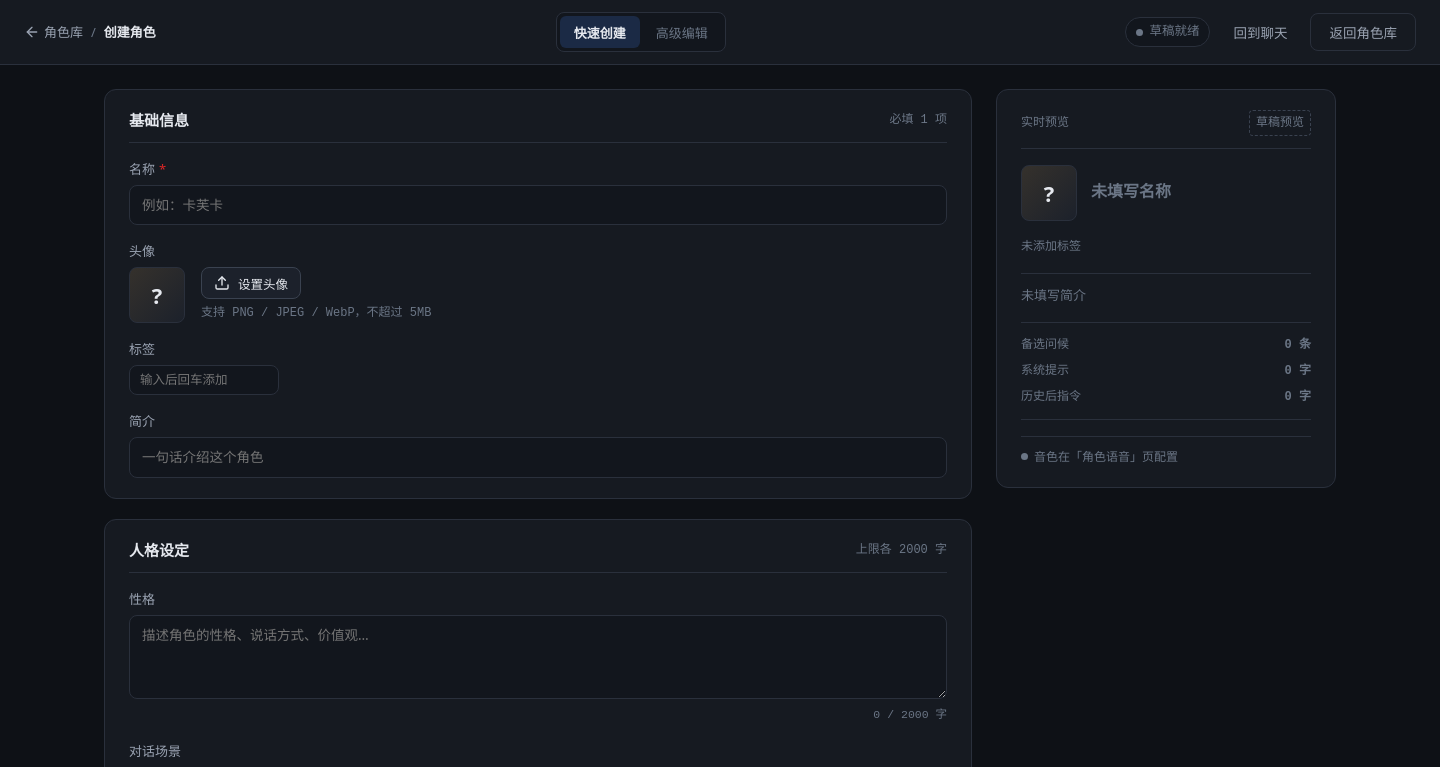
Scenario: CharacterCreatePage › 标签 › 输入标签按回车添加，并在表单与预览区同步展示
The image size is (1440, 767).
Step 1. Type "星核猎手" into the field named "添加标签" → coordinates (204, 380), box [129,365,279,395]
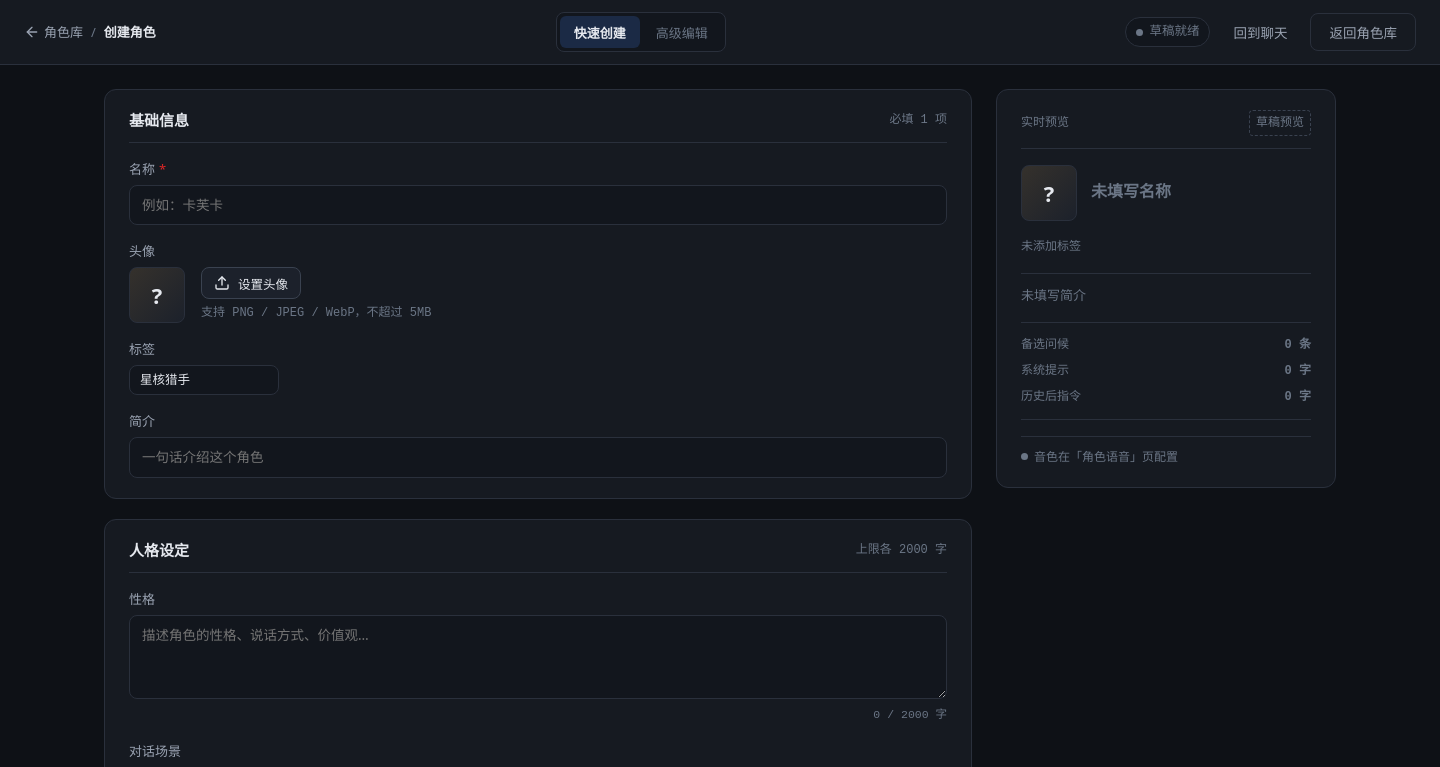
Step 2. Press Enter in the field named "添加标签", box [129,365,279,395]
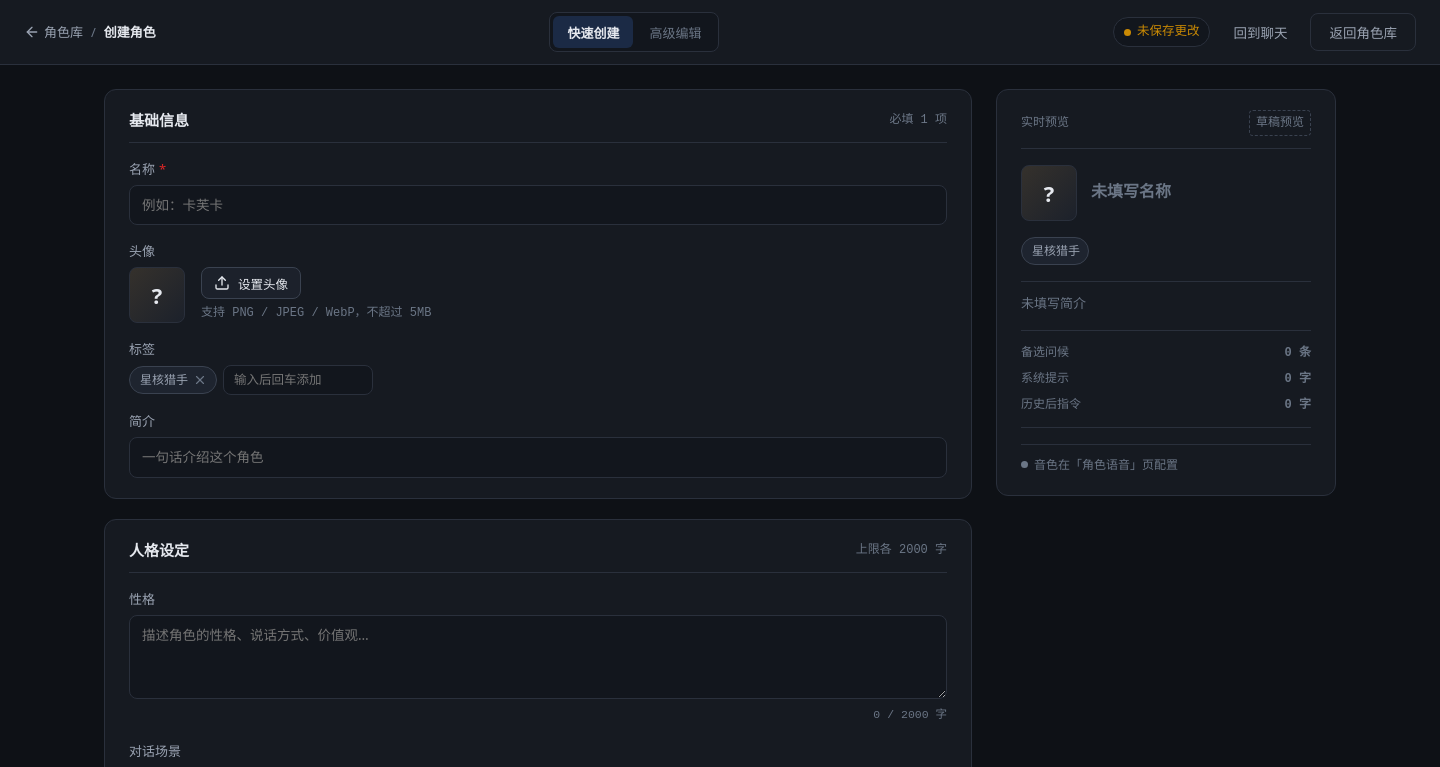
Check: the text "星核猎手" below "标签" is shown, box [140,371,188,388]
Check: the element with test id "preview-tags" reads "星核猎手", box [1032,242,1080,259]
Check: the field named "添加标签" is empty
Note:  添加第二个标签
Step 3. Type "冷静" into the field named "添加标签" → coordinates (298, 380), box [223,365,373,395]
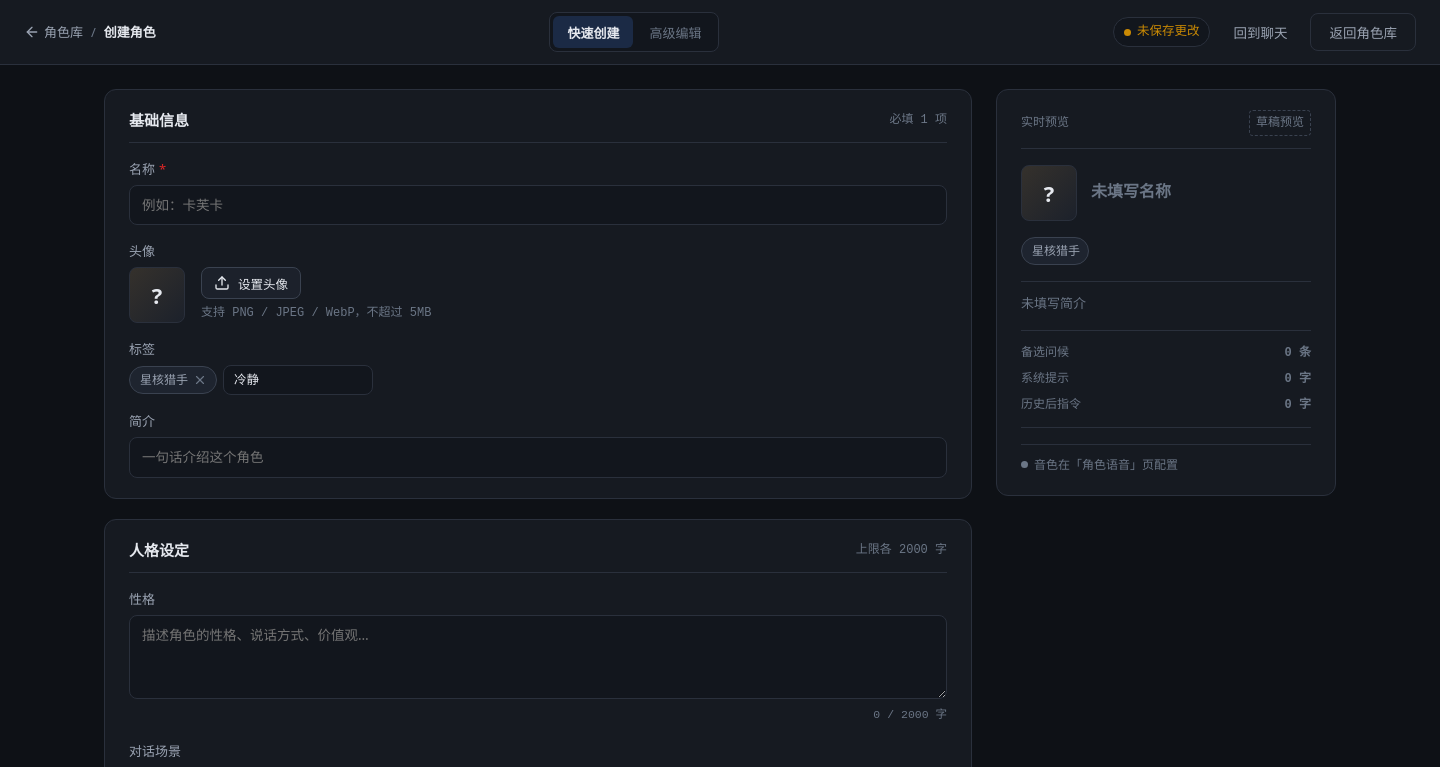
Step 4. Press Enter in the field named "添加标签", box [223,365,373,395]
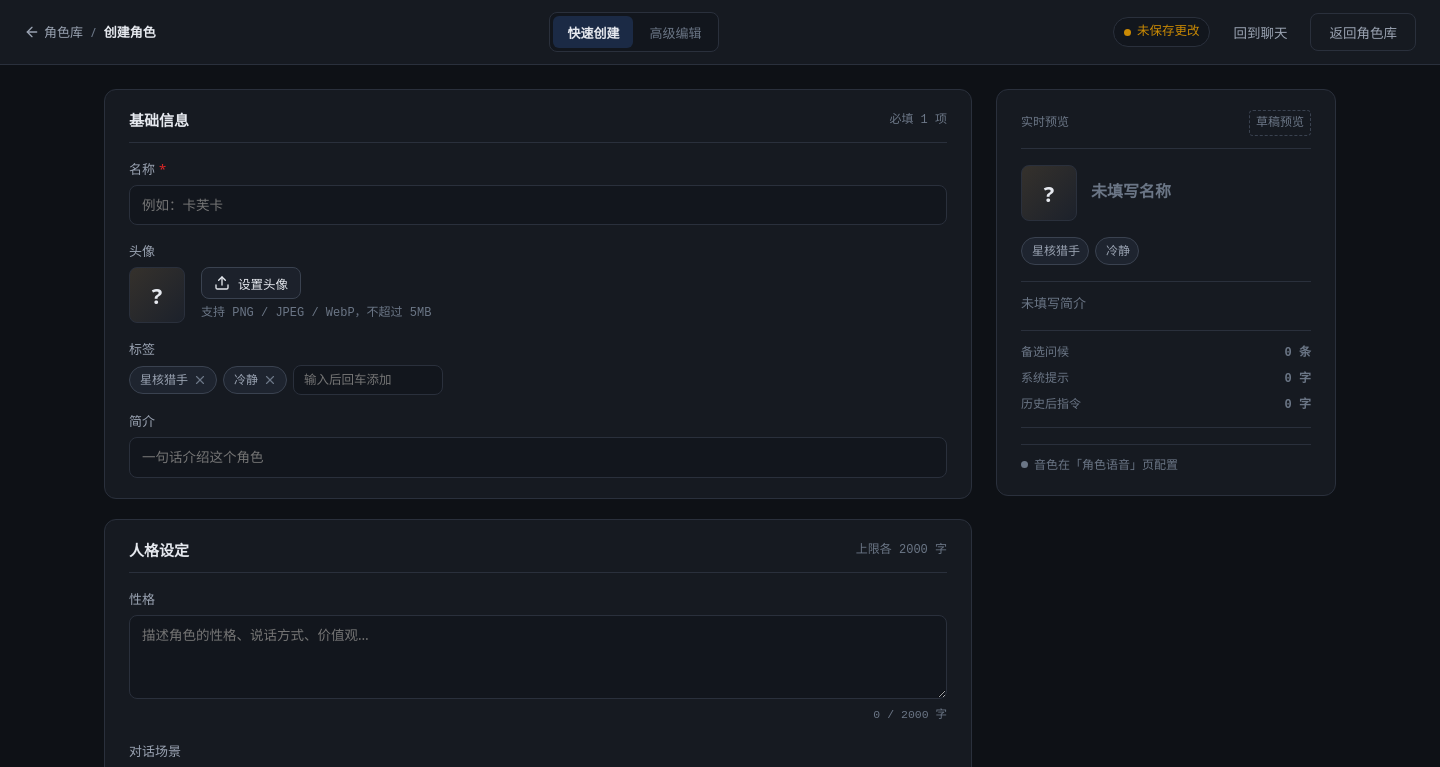
Check: the text "冷静" is shown, box [223,366,287,394]
Check: the element with test id "preview-tags" shows "冷静", box [1106,242,1130,259]
